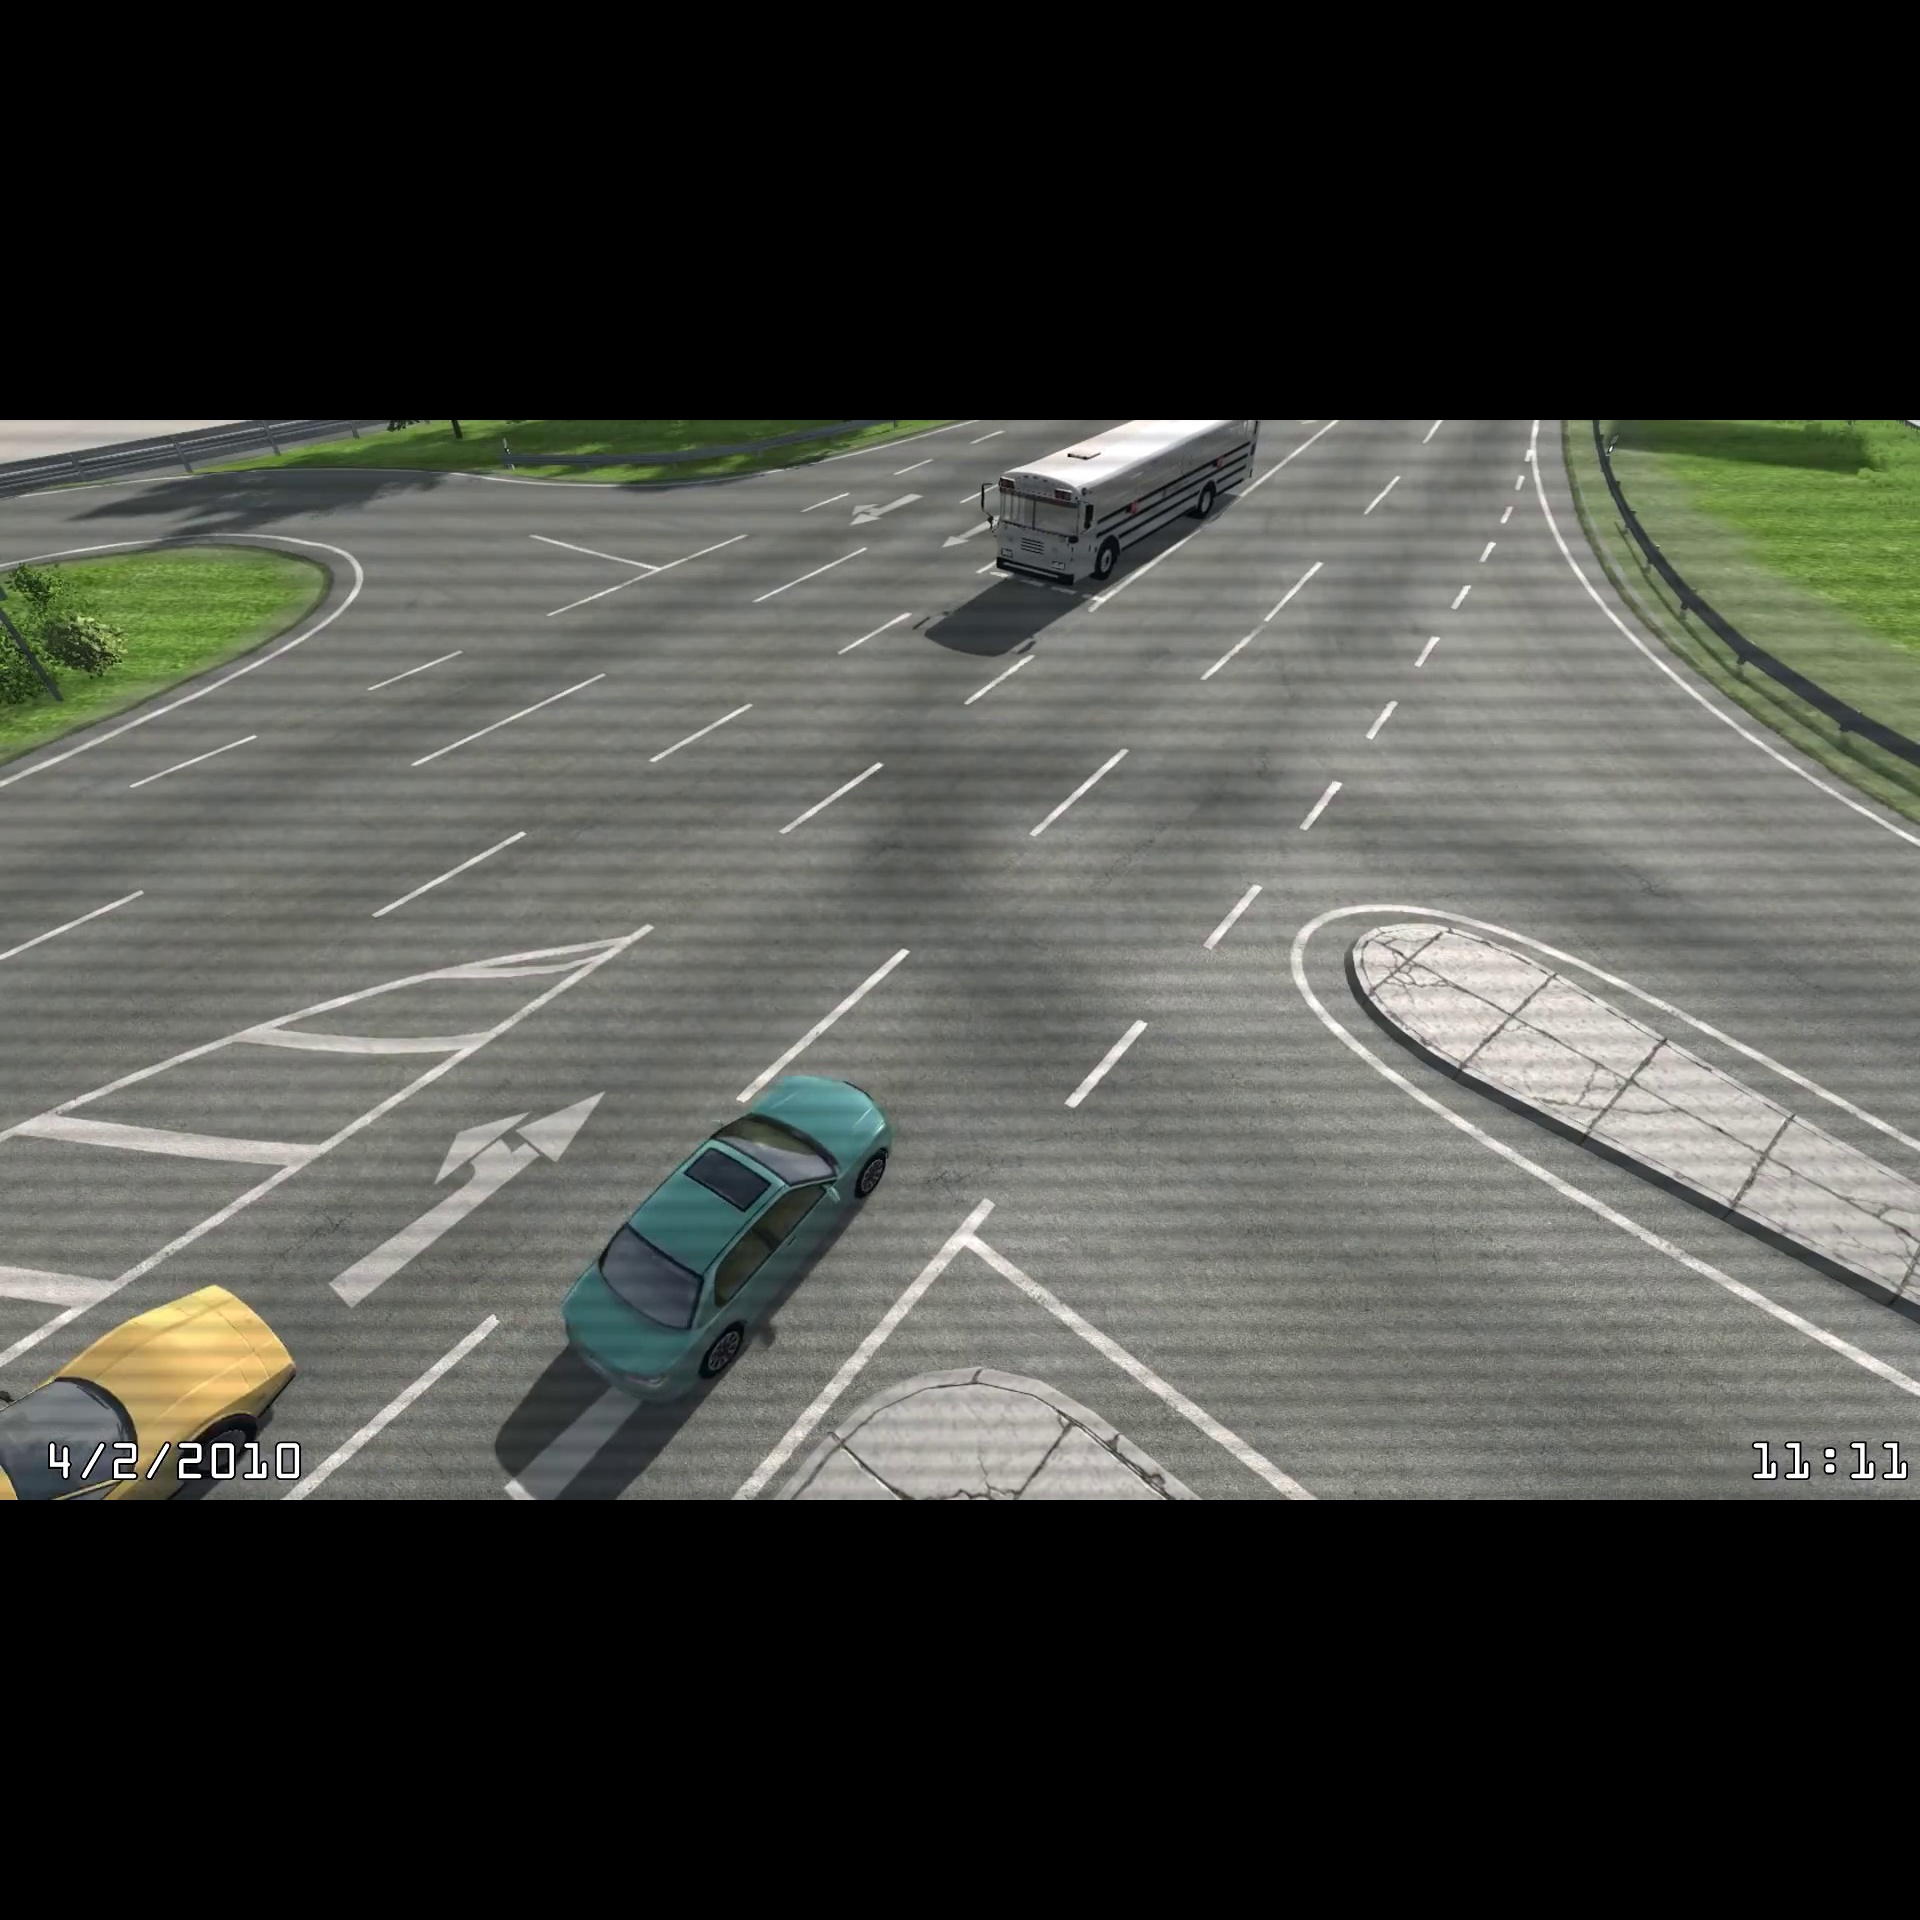vehicle: (554, 1065, 900, 1405), (2, 1271, 306, 1496), (976, 418, 1266, 594)
